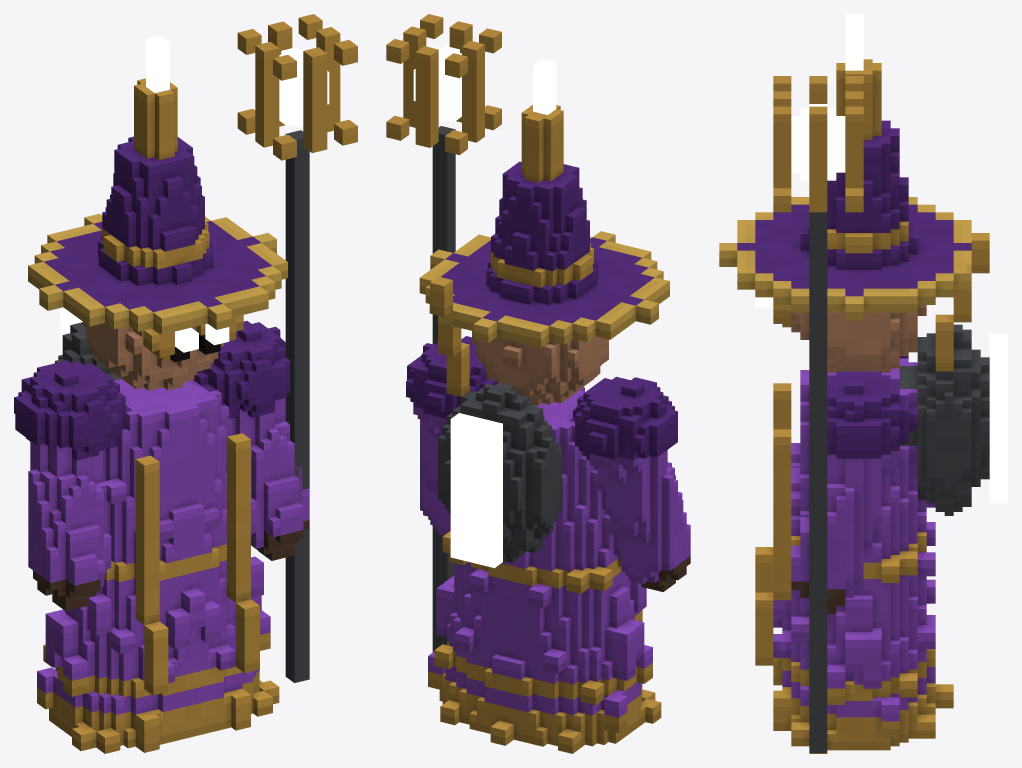
File: u_oracle__artificier.glb
3 views of the same model, side by side, from view 1: azimuth 30°, elevation 25°; view 2: azimuth 150°, elevation 25°; view 3: azimuth 270°, elevation 25° (orthographic). The views are drawn at different scales.
Visible parts, largest first — view 1: oracle_body, oracle_weapon, oracle_glow, oracle_weaponglow; view 2: oracle_body, oracle_weapon, oracle_glow, oracle_weaponglow; view 3: oracle_body, oracle_weapon, oracle_glow, oracle_weaponglow.
Part boxes in pixels (left/top/right/bottom): oracle_body: left=14, top=78, right=309, bottom=753; oracle_weapon: left=237, top=14, right=357, bottom=682; oracle_glow: left=60, top=35, right=229, bottom=355; oracle_weaponglow: left=279, top=47, right=329, bottom=127; oracle_body: left=406, top=105, right=690, bottom=753; oracle_weapon: left=386, top=14, right=501, bottom=651; oracle_glow: left=450, top=59, right=556, bottom=567; oracle_weaponglow: left=413, top=46, right=461, bottom=123; oracle_body: left=719, top=59, right=989, bottom=753; oracle_weapon: left=773, top=76, right=863, bottom=752; oracle_glow: left=755, top=14, right=1007, bottom=503; oracle_weaponglow: left=791, top=104, right=845, bottom=180.
Size of the model in its own units: 0.95 by 2.1 by 0.8.
